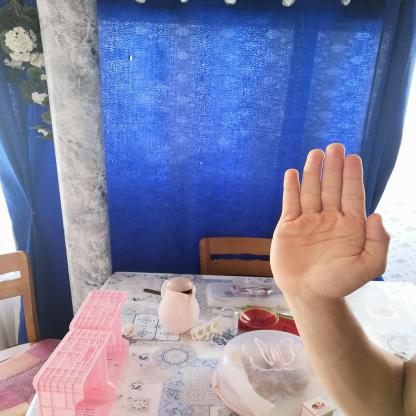SEEN: (260, 136, 400, 311)
